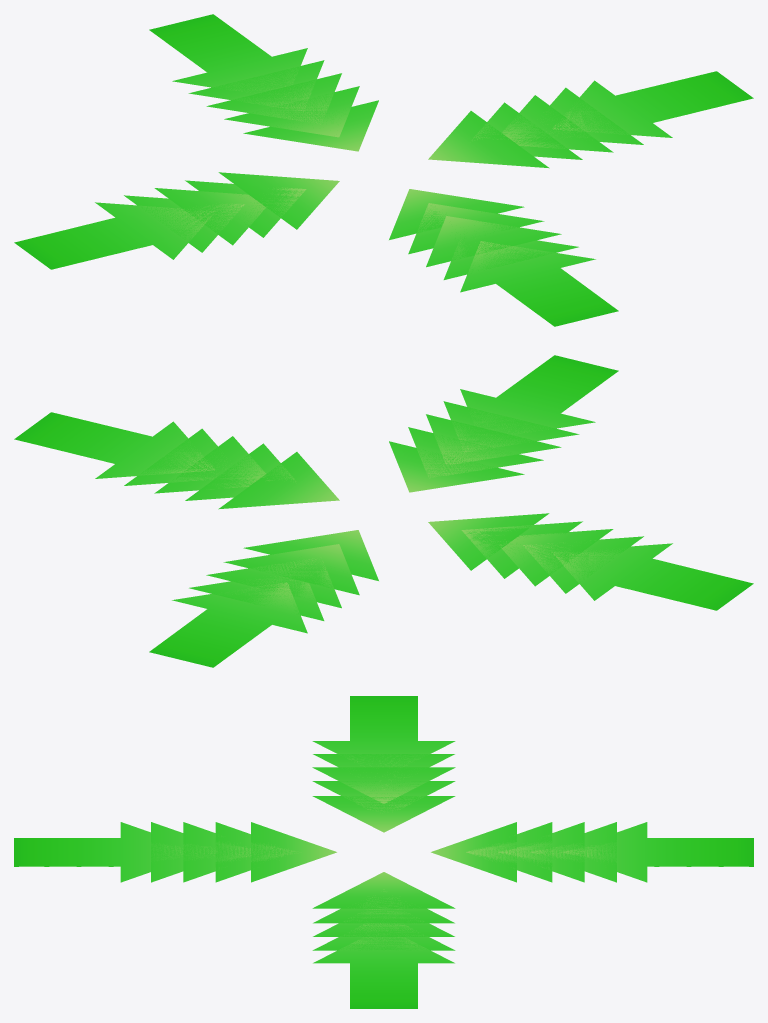
File: arrowAnimation13.fbx
3 views of the same model, one above another, from view 1: azimuth 30°, elevation 25°; view 2: azimuth 150°, elevation 25°; view 3: azimuth 270°, elevation 25° (orthographic). The views are drawn at different scales.
Visible parts, largest first — view 1: frame1, frame3, frame5, frame2, frame4; view 2: frame1, frame3, frame5, frame4, frame2; view 3: frame1, frame5, frame3, frame4, frame2.
Part boxes in pixels (x1,y1,x2,y2): frame1: (14,14,753,326); frame3: (154,73,613,267); frame5: (218,100,549,239); frame2: (124,60,643,279); frame4: (185,86,582,254); frame1: (14,355,753,667); frame3: (154,414,613,608); frame5: (218,441,549,580); frame4: (185,427,582,595); frame2: (124,401,643,620); frame1: (14,696,753,1008); frame5: (251,796,516,908); frame3: (77,767,690,936); frame4: (109,781,658,923); frame2: (44,754,723,950).
Bounding box in the file's own units: 0.0235 × 8.12e-06 × 0.0235.
